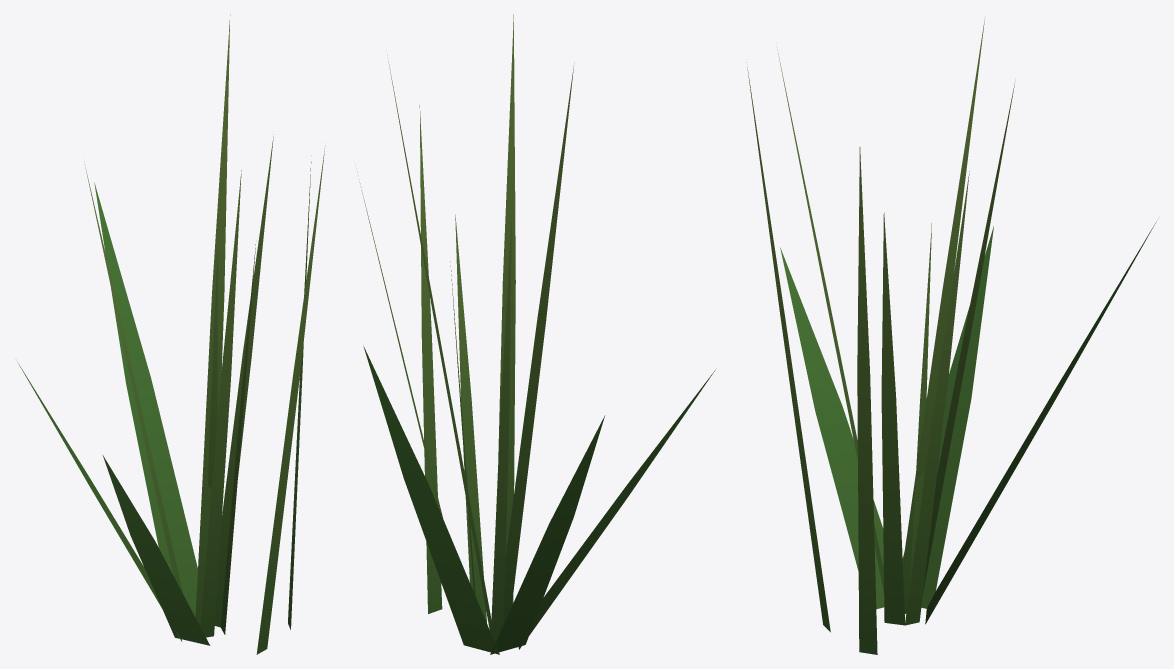
Rendered from reeds_plain.glb.
3 renders of one model, left to right at view 1: azimuth 30°, elevation 25°; view 2: azimuth 150°, elevation 25°; view 3: azimuth 270°, elevation 25°, orthographic. The views are drawn at different scales.
Parts seen in each view (by area): view 1: reeds_plain; view 2: reeds_plain; view 3: reeds_plain.
Boxes of the visible parts, x1,y1,x2,y2 form: reeds_plain: (17, 14, 325, 654); reeds_plain: (357, 14, 715, 654); reeds_plain: (746, 16, 1158, 654).
Bounding box in the file's own units: 0.6611 × 1.41 × 0.8316.
